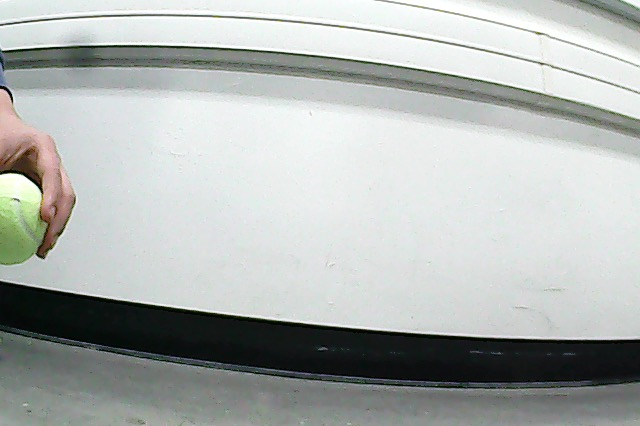ball: (1, 174, 50, 266)
